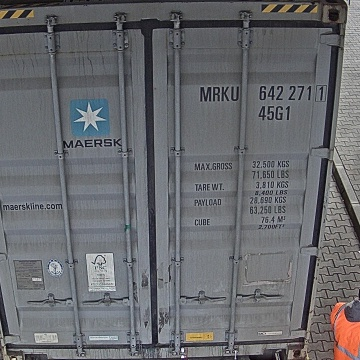serial_id: (199, 85, 325, 101)
